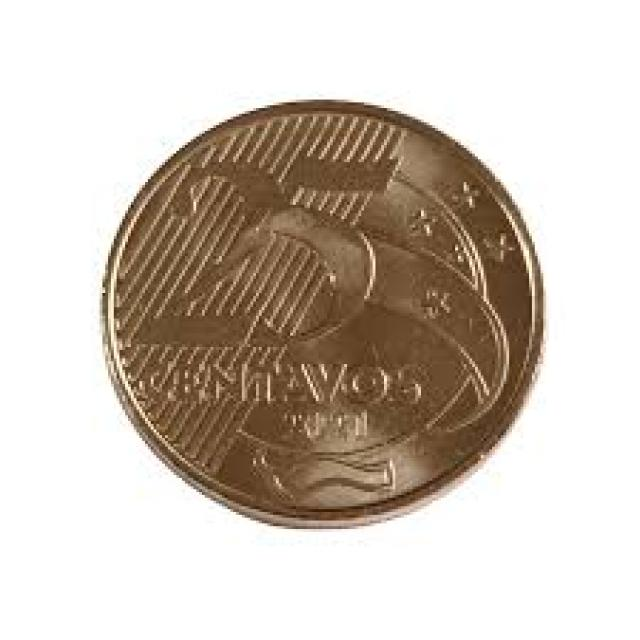25 cent: (104, 103, 549, 510)
